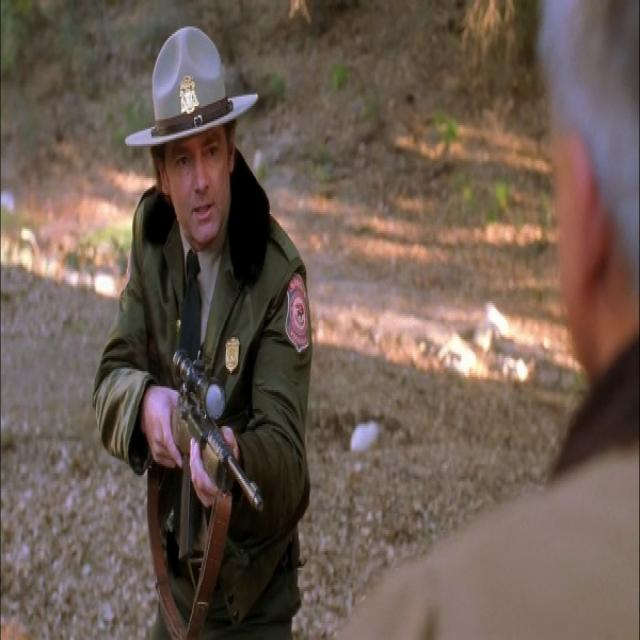rifle: (171, 343, 277, 572)
